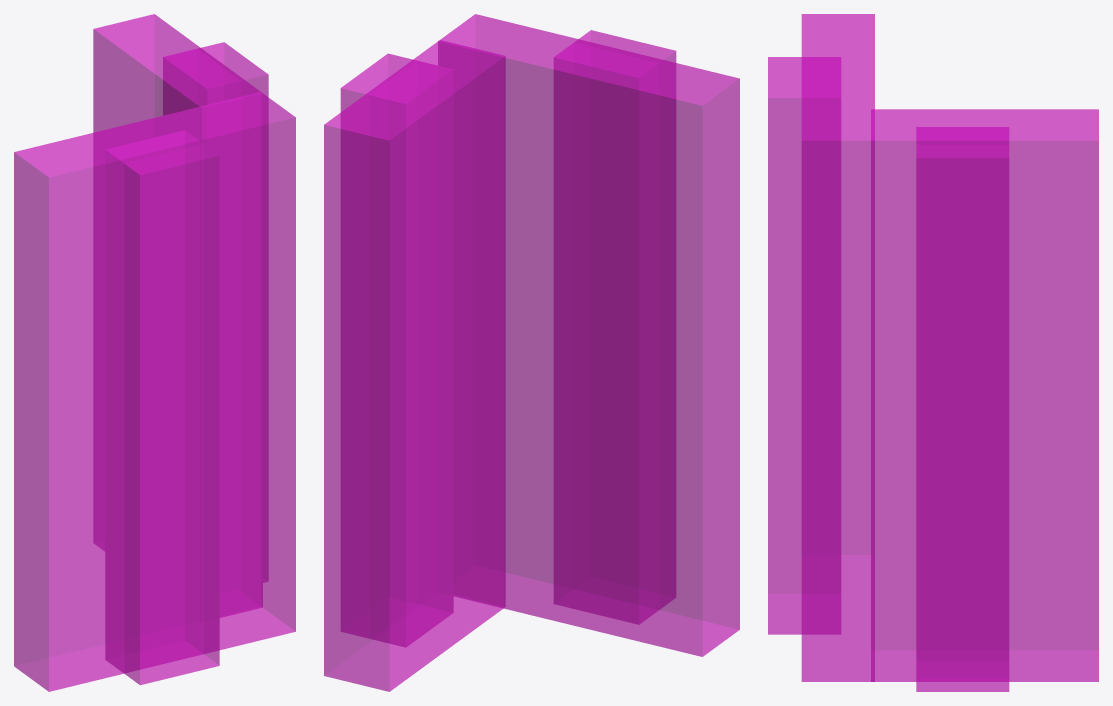
The model's file is SM_Bld_Wall_L_Corner_01_Collision.fbx.
The picture shows the model from 3 angles, left to right: view 1: azimuth 30°, elevation 25°; view 2: azimuth 150°, elevation 25°; view 3: azimuth 270°, elevation 25°; orthographic projection. The views are drawn at different scales.
Visible parts, largest first — view 1: SM_Bld_Wall_L_Corner_01_Collision; view 2: SM_Bld_Wall_L_Corner_01_Collision; view 3: SM_Bld_Wall_L_Corner_01_Collision.
Part boxes in pixels (left/top/right/bottom): SM_Bld_Wall_L_Corner_01_Collision: left=14, top=14, right=295, bottom=691; SM_Bld_Wall_L_Corner_01_Collision: left=324, top=14, right=739, bottom=691; SM_Bld_Wall_L_Corner_01_Collision: left=768, top=14, right=1098, bottom=691.
Bounding box in the file's own units: 337 × 605 × 335.
